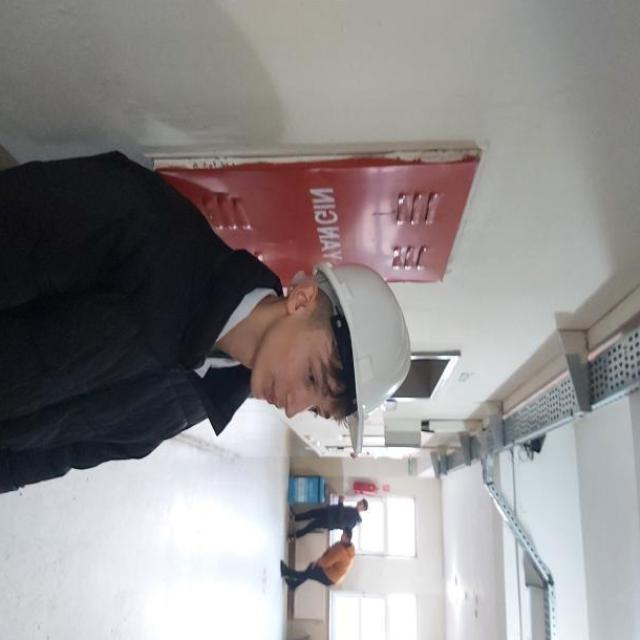helmet: (313, 260, 412, 456)
